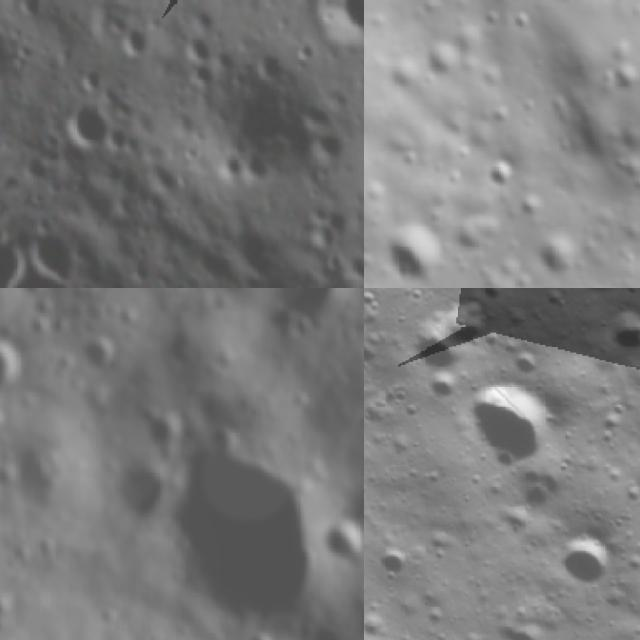crater: (152, 438, 329, 618), (441, 353, 575, 488), (371, 206, 456, 288), (546, 518, 628, 600), (425, 289, 500, 364), (503, 447, 576, 520), (526, 222, 598, 288), (54, 94, 115, 157), (28, 221, 85, 288), (114, 460, 173, 523), (593, 294, 640, 366), (418, 25, 472, 85), (100, 5, 146, 74), (366, 531, 420, 585), (8, 447, 59, 504), (487, 602, 553, 640), (315, 518, 364, 569), (310, 0, 364, 45), (274, 288, 352, 318), (599, 56, 640, 108), (364, 301, 388, 378), (479, 151, 519, 193), (0, 336, 27, 397), (147, 408, 185, 451), (82, 334, 122, 374), (183, 33, 224, 72), (364, 328, 393, 379), (284, 309, 317, 351), (570, 288, 633, 308), (220, 152, 247, 185), (90, 607, 122, 632), (292, 34, 317, 65), (178, 140, 204, 168), (226, 626, 277, 640), (364, 288, 388, 316), (14, 37, 35, 65), (629, 469, 640, 518), (0, 590, 14, 623)
